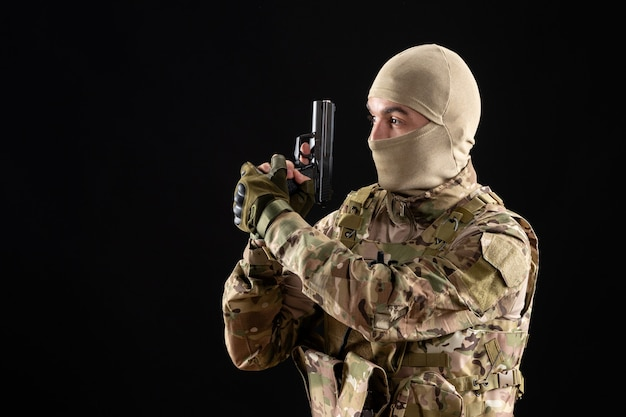gun: (276, 98, 334, 209)
